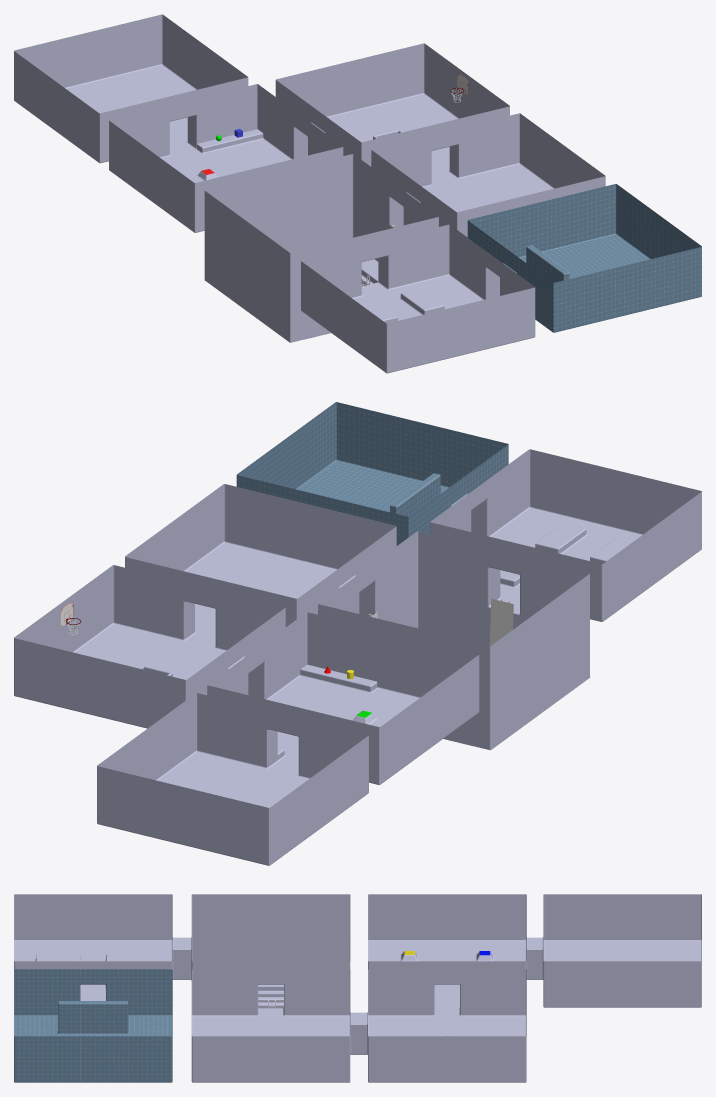
The model's file is demo world 3.glb.
3 renders of one model, top to bottom at view 1: azimuth 30°, elevation 25°; view 2: azimuth 150°, elevation 25°; view 3: azimuth 270°, elevation 25°, orthographic. The views are drawn at different scales.
Visible parts, largest first — view 1: Plane.007; view 2: Plane.007, ladder.001; view 3: Plane.007.
Boxes of the visible parts, left/top/right/bottom form: Plane.007: left=14, top=14, right=701, bottom=373; Plane.007: left=14, top=402, right=701, bottom=865; ladder.001: left=489, top=598, right=513, bottom=645; Plane.007: left=14, top=894, right=701, bottom=1082.
Size of the model in its own units: 51.93 by 17.09 by 106.
Materials: 15 (2 with a texture image).
